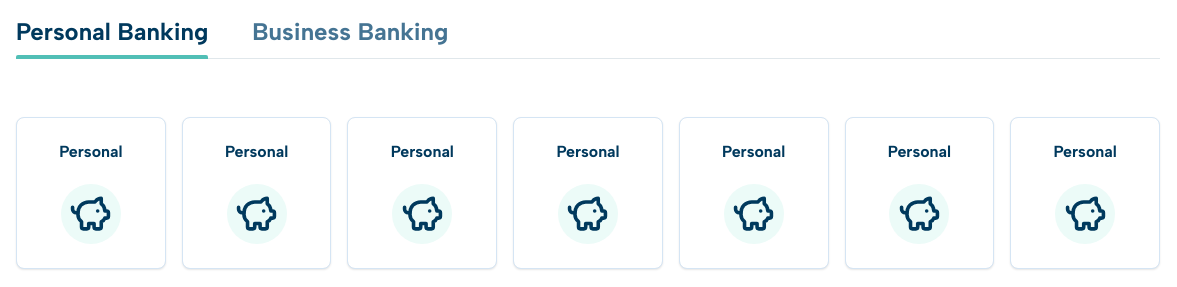
TabbedIconCards Organism › switches tabs and active panel when Tab 2 is clicked
Click the tab "Business Banking": (350, 38) [252,16,448,59]
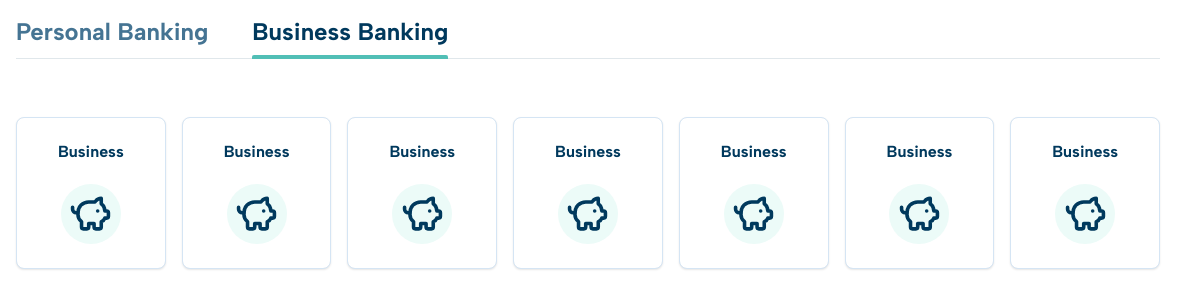
Check: the text "Business Service 1" is shown, box [58,142,124,181]
Check: the link "Personal Service 1" is gone
